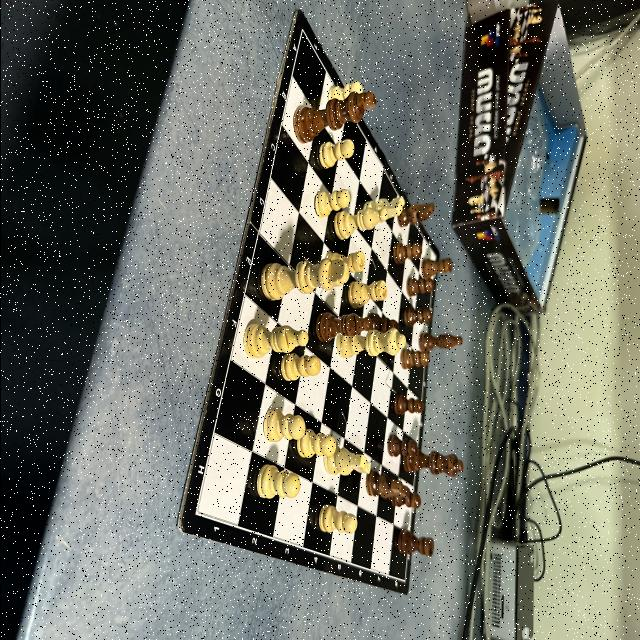Black-Bishop: (314, 312, 371, 344), (418, 332, 462, 352)
Black-King: (293, 91, 377, 145)
Black-Knight: (365, 470, 409, 499), (396, 202, 434, 228)
Black-Pawn: (392, 241, 422, 265), (365, 312, 398, 333), (386, 435, 416, 457), (402, 306, 432, 328), (392, 395, 423, 415), (398, 350, 428, 370), (388, 491, 421, 508), (406, 277, 434, 297)
Black-Queen: (401, 448, 463, 478)
Black-Rook: (397, 529, 433, 558), (421, 258, 452, 278)
White-Bishop: (242, 323, 308, 359), (332, 207, 387, 241)
White-King: (260, 258, 349, 302)
White-Knight: (322, 447, 370, 477), (362, 196, 404, 222)
White-Pawn: (256, 464, 300, 499), (262, 409, 305, 443), (295, 428, 336, 459), (279, 353, 321, 381), (318, 504, 357, 534), (317, 138, 353, 170), (314, 188, 349, 218), (328, 81, 362, 98)
White-Queen: (336, 328, 406, 358)
White-Rook: (346, 280, 386, 310), (324, 250, 366, 274)
